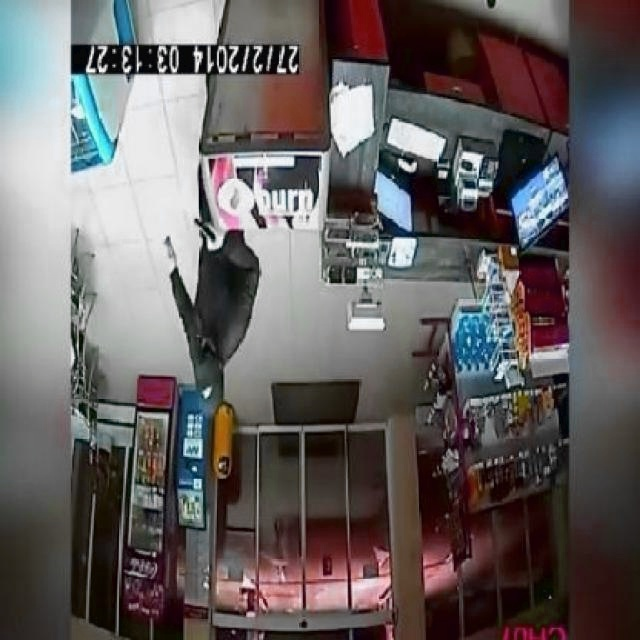gun: (195, 210, 220, 255)
